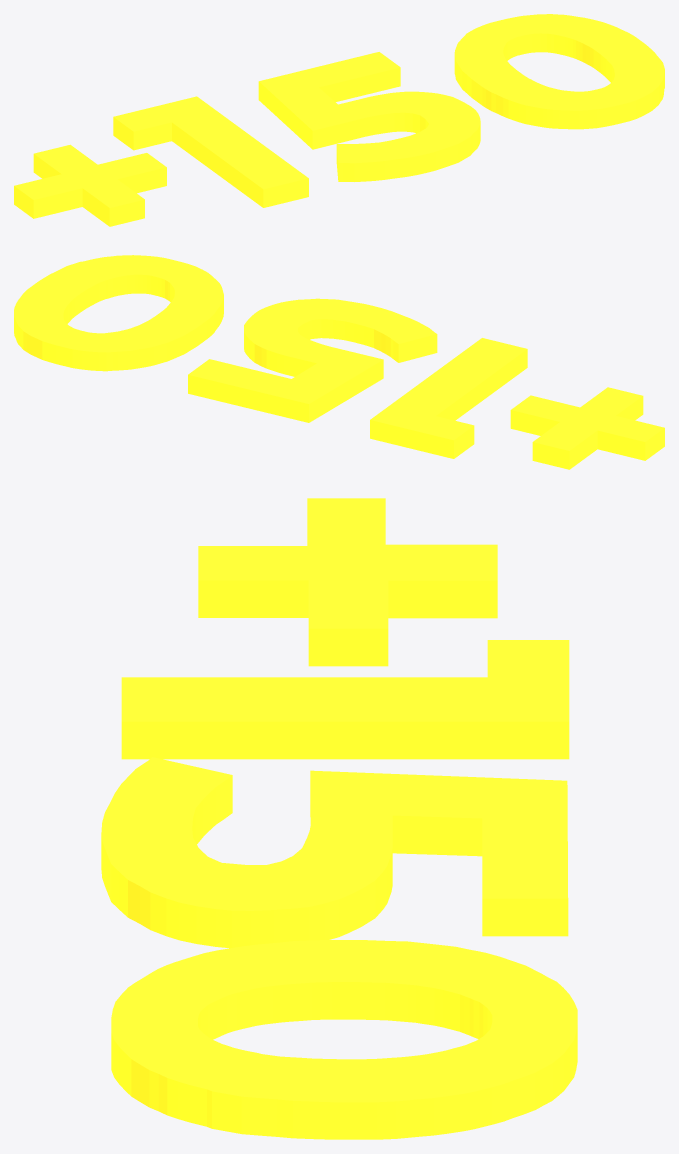
Rendered from plus150.fbx.
The picture shows the model from 3 angles, top to bottom: view 1: azimuth 30°, elevation 25°; view 2: azimuth 150°, elevation 25°; view 3: azimuth 270°, elevation 25°; orthographic projection. The views are drawn at different scales.
Visible parts, largest first — view 1: Plane, Plane.001, Plane.002, Empty.001; view 2: Plane, Plane.001, Plane.002, Empty.001; view 3: Plane.001, Plane, Plane.002, Empty.001.
Boxes of the visible parts, x1=… form: Plane: x1=258, y1=52, x2=480, y2=181; Plane.001: x1=454, y1=14, x2=664, y2=129; Plane.002: x1=113, y1=96, x2=308, y2=207; Empty.001: x1=14, y1=144, x2=166, y2=226; Plane: x1=188, y1=298, x2=437, y2=422; Plane.001: x1=14, y1=255, x2=223, y2=371; Plane.002: x1=370, y1=338, x2=527, y2=458; Empty.001: x1=510, y1=387, x2=664, y2=469; Plane.001: x1=111, y1=940, x2=577, y2=1139; Plane: x1=101, y1=757, x2=568, y2=948; Plane.002: x1=121, y1=640, x2=569, y2=759; Empty.001: x1=198, y1=498, x2=497, y2=666.
Size of the model in its own units: 179 by 536 by 15.89.
